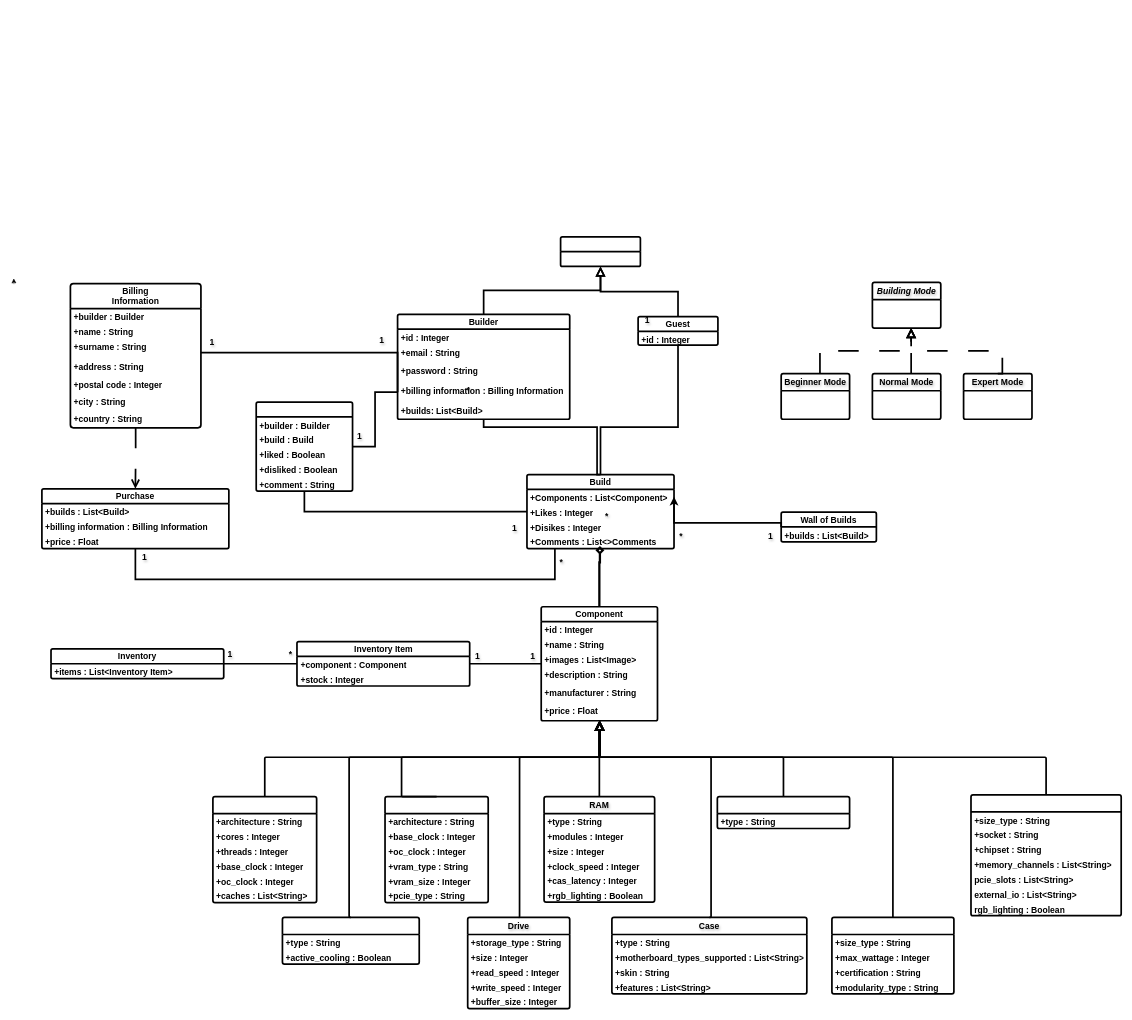
The diagram is 1132 pixels wide and 1020 high, and some of its shapes have lost their labels. Here are the shapes that lost their labels. From the top down, the box of each, then its label:
(559, 236, 641, 267): User
(255, 401, 353, 492): Rating
(716, 795, 850, 829): Decoration
(212, 795, 317, 903): CPU
(384, 795, 489, 903): GPU
(970, 794, 1122, 916): Motherboard
(281, 916, 420, 965): Cooling System
(831, 916, 954, 994): PSU
